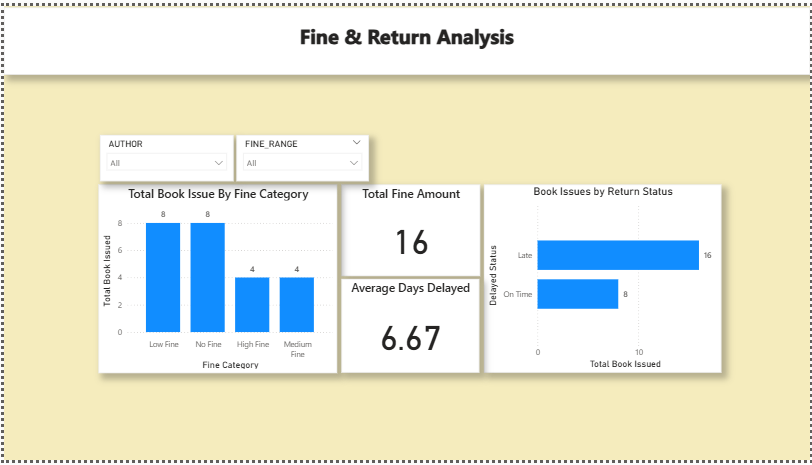

Layout of this report page (visuals, bound fields, positions):
{"tool":"powerbi","page":{"name":"Fine ","canvas":[1280,720],"ordinal":3},"visuals":[{"type":"textbox","box":[0,3.2,1279.4,106.3],"z":0},{"type":"card","title":"Total Fine Amount","fields":{"Values":["Measure.Total Late Returns"]},"box":[535.5,283.1,219.9,145.5],"z":1000},{"type":"clusteredColumnChart","title":"Total Book Issue By Fine Category ","fields":{"Category":["Lms_Analysis.Fine Category"],"Y":["Measure.Total Book Issued"]},"box":[149.9,282.7,378.5,299.2],"z":2000},{"type":"clusteredBarChart","title":"Book Issues by Return Status","fields":{"Category":["Lms_Analysis.Delayed Status"],"Y":["Measure.Total Book Issued"]},"box":[761.7,283.3,376.7,298.3],"z":3000},{"type":"card","title":"Average Days Delayed","fields":{"Values":["Measure.Average Days Delayed"]},"box":[536.7,433.3,218.3,148.3],"z":6000},{"type":"slicer","fields":{"Values":["Lms_Analysis.AUTHOR"]},"box":[151.7,204.4,211.7,73.3],"z":7000},{"type":"slicer","fields":{"Values":["Lms_Analysis.FINE_RANGE"]},"box":[370,204.4,210,73.3],"z":8000}]}

Visuals, with their boxes in screenshot pixels (x1, y1, x2, y2), scaled from the page's 1280x720 canvas onto the 812x465 screenshot:
textbox: 0, 2, 811, 71
"Total Fine Amount" card: 340, 183, 479, 277
"Total Book Issue By Fine Category " clusteredColumnChart: 95, 183, 335, 376
"Book Issues by Return Status" clusteredBarChart: 483, 183, 722, 376
"Average Days Delayed" card: 340, 280, 479, 376
slicer - Lms_Analysis.AUTHOR: 96, 132, 231, 179
slicer - Lms_Analysis.FINE_RANGE: 235, 132, 368, 179
